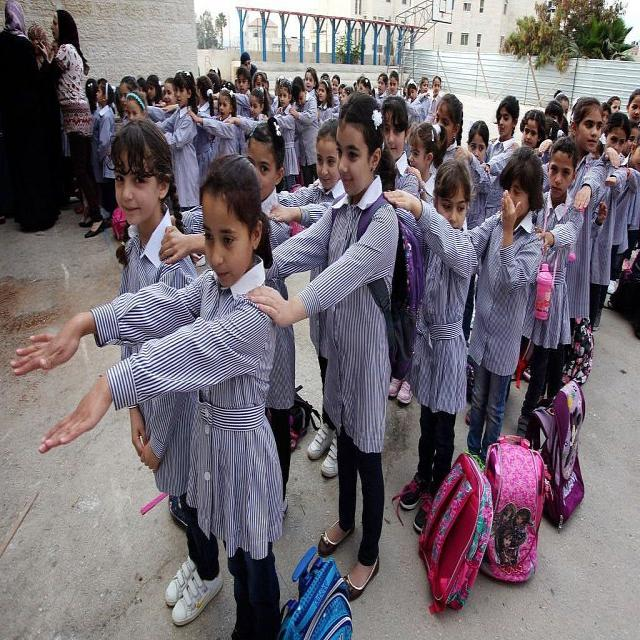body: (8, 153, 287, 640), (244, 94, 400, 605), (109, 117, 226, 629), (156, 115, 296, 525), (382, 156, 479, 537), (312, 94, 426, 409), (266, 113, 348, 472), (464, 150, 542, 460), (518, 136, 584, 446), (538, 96, 608, 388), (0, 0, 61, 233), (48, 8, 108, 238), (590, 110, 632, 333), (152, 69, 201, 212), (159, 72, 215, 185), (479, 95, 523, 219), (276, 74, 320, 189), (206, 51, 285, 115), (91, 81, 119, 231), (188, 89, 241, 164), (404, 122, 450, 207), (460, 119, 492, 234), (273, 79, 300, 194), (228, 87, 270, 154), (434, 93, 464, 164), (319, 72, 372, 109), (134, 71, 177, 107), (27, 20, 55, 71), (624, 87, 640, 176), (519, 107, 549, 153), (374, 69, 414, 100), (117, 75, 141, 126), (542, 87, 570, 130), (124, 88, 150, 126), (316, 77, 335, 129), (416, 76, 434, 129), (404, 77, 422, 127), (426, 76, 443, 125), (600, 94, 622, 130), (303, 66, 319, 102), (84, 75, 98, 112)
